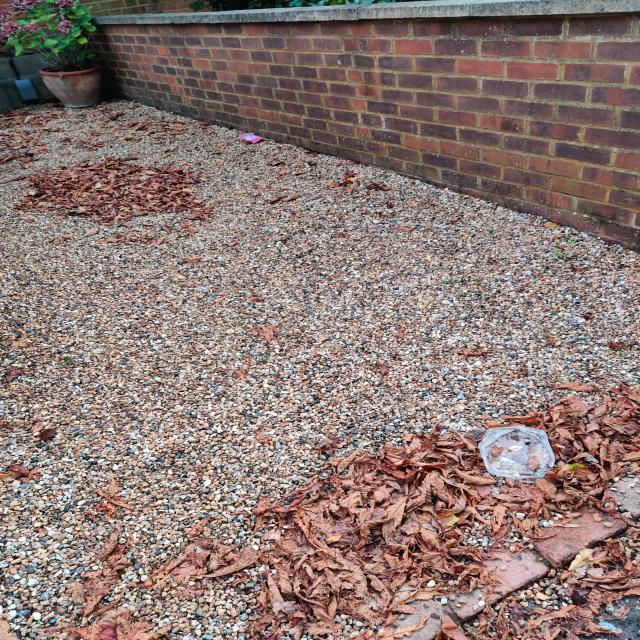litter: (475, 425, 558, 484), (235, 132, 265, 144)
